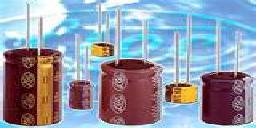Electrolytic-Capacitor: (6, 1, 63, 128), (103, 10, 162, 128), (201, 12, 255, 125), (165, 6, 200, 122), (68, 31, 91, 116), (93, 4, 114, 56)
